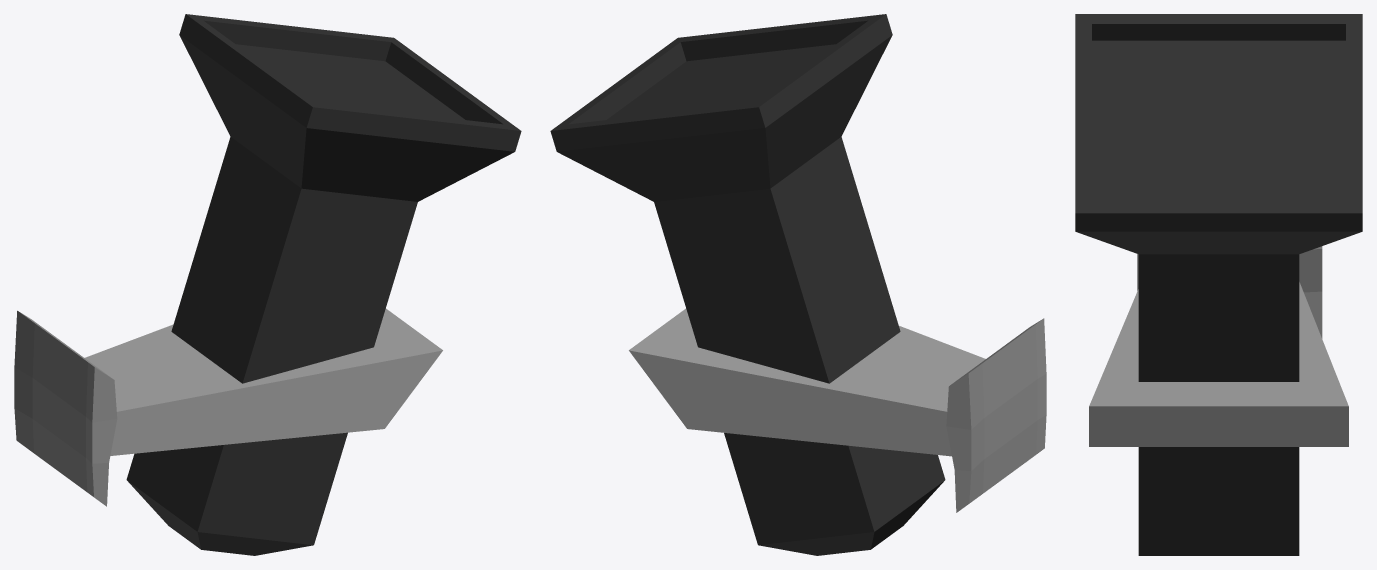
File: Sconce.fbx
3 views of the same model, side by side, from view 1: azimuth 30°, elevation 25°; view 2: azimuth 150°, elevation 25°; view 3: azimuth 270°, elevation 25° (orthographic). The views are drawn at different scales.
Visible parts, largest first — view 1: Fire, Holder; view 2: Fire, Holder; view 3: Fire, Holder.
Boxes of the visible parts, <box> form: Fire: <box>126,14,521,555</box>; Holder: <box>14,308,442,506</box>; Fire: <box>550,14,945,555</box>; Holder: <box>629,308,1046,512</box>; Fire: <box>1075,14,1362,555</box>; Holder: <box>1089,246,1348,446</box>.
Bounding box in the file's own units: 651 × 746 × 358.
Materials: 2 (2 with a texture image).
